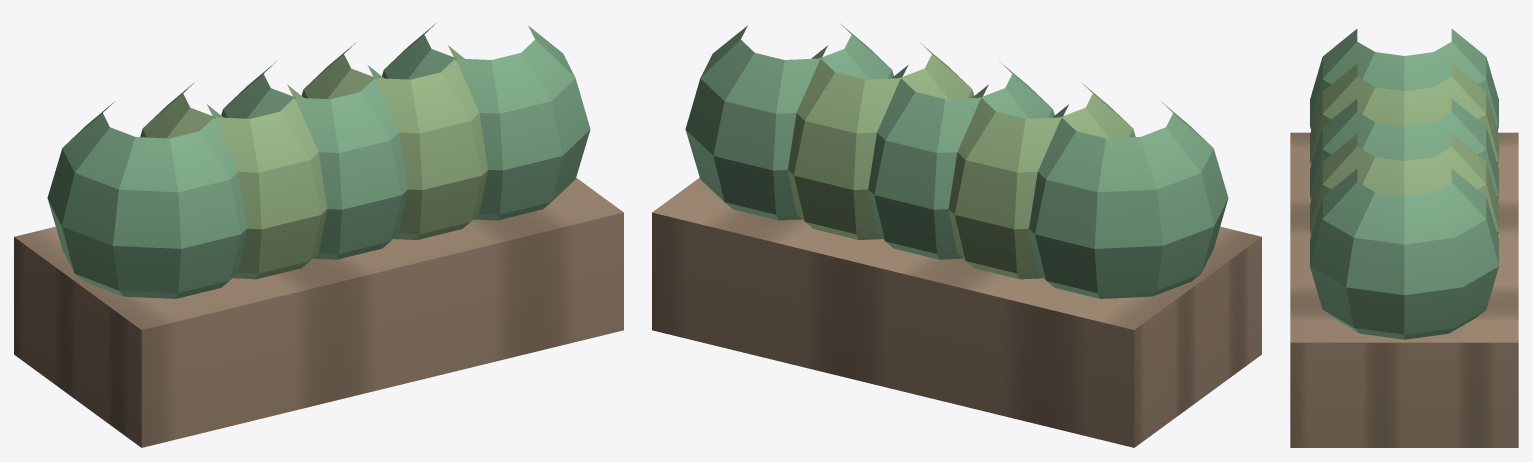
Rendered from fern.glb.
3 renders of one model, left to right at view 1: azimuth 30°, elevation 25°; view 2: azimuth 150°, elevation 25°; view 3: azimuth 270°, elevation 25°, orthographic. The views are drawn at different scales.
Visible parts, largest first — view 1: fern; view 2: fern; view 3: fern.
Part boxes in pixels (<box>): fern: <box>14,23,623,447</box>; fern: <box>652,23,1261,447</box>; fern: <box>1290,29,1518,447</box>.
Bounding box in the file's own units: 2.56 × 1.33 × 1.1.
1 material, 1 textured.
